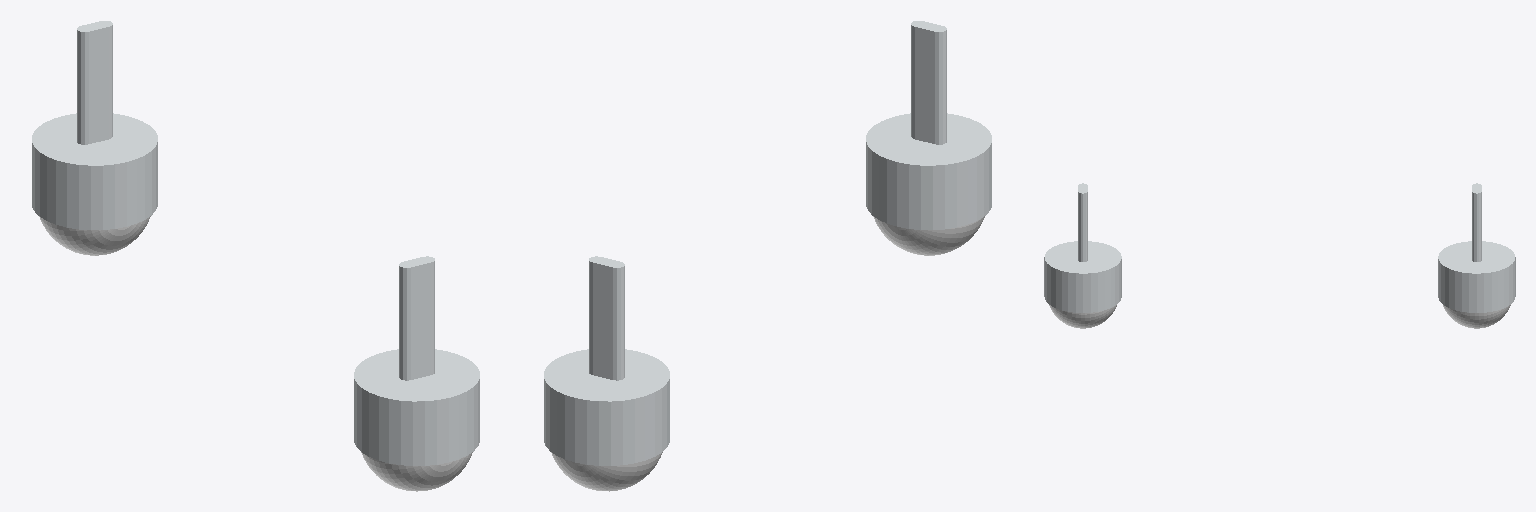
URDF robot description (lide):
<?xml version="1.0" encoding="utf-8"?>
<!-- This URDF was automatically created by SolidWorks to URDF Exporter! Originally created by [author] ([email redacted]) 
     Commit Version: 1.5.1-0-g916b5db  Build Version: 1.5.7152.31018
     For more information, please see http://wiki.ros.org/sw_urdf_exporter -->
<robot
  name="lide">
  <link
    name="base_link">
    <inertial>
      <origin
        xyz="-0.0875241348219497 0.00132743425076964 0.0474630684459225"
        rpy="0 0 0" />
      <mass
        value="3.15295004835025" />
      <inertia
        ixx="0.00732952370902921"
        ixy="-5.47577884715443E-07"
        ixz="-7.3648848496294E-06"
        iyy="0.00563296593577528"
        iyz="-3.00885497223995E-07"
        izz="0.0122350442649522" />
    </inertial>
    <visual>
      <origin
        xyz="0 0 0"
        rpy="0 0 0" />
      <geometry>
        <mesh
          filename="package://lide/meshes/base_link.STL" />
      </geometry>
      <material
        name="">
        <color
          rgba="0.752941176470588 0.752941176470588 0.752941176470588 1" />
      </material>
    </visual>
    <collision>
      <origin
        xyz="0 0 0"
        rpy="0 0 0" />
      <geometry>
        <mesh
          filename="package://lide/meshes/base_link.STL" />
      </geometry>
    </collision>
  </link>
  <link
    name="LFS">
    <inertial>
      <origin
        xyz="0.0455604268709418 0.00830943309140329 0.00297622851896684"
        rpy="0 0 0" />
      <mass
        value="0.0727928435161987" />
      <inertia
        ixx="2.20927876796313E-05"
        ixy="-1.64845302056349E-08"
        ixz="-1.56454773175211E-07"
        iyy="1.62632133784213E-05"
        iyz="2.96411876511635E-09"
        izz="1.80843397531752E-05" />
    </inertial>
    <visual>
      <origin
        xyz="0 0 0"
        rpy="0 0 0" />
      <geometry>
        <mesh
          filename="package://lide/meshes/LFS.STL" />
      </geometry>
      <material
        name="">
        <color
          rgba="0.752941176470588 0.752941176470588 0.752941176470588 1" />
      </material>
    </visual>
    <collision>
      <origin
        xyz="0 0 0"
        rpy="0 0 0" />
      <geometry>
        <mesh
          filename="package://lide/meshes/LFS.STL" />
      </geometry>
    </collision>
  </link>
  <joint
    name="LFS"
    type="fixed">
    <origin
      xyz="-0.0210436140506678 0.117153640036847 -0.036502747985397"
      rpy="1.5707963267949 0 1.5707963267949" />
    <parent
      link="base_link" />
    <child
      link="LFS" />
    <axis
      xyz="0 0 0" />
  </joint>
  <link
    name="LFW">
    <inertial>
      <origin
        xyz="0.015 0 2.60208521396521E-18"
        rpy="0 0 0" />
      <mass
        value="0.767080911081153" />
      <inertia
        ixx="0.00116426102407189"
        ixy="-1.25105048588129E-22"
        ixz="-1.83311841364852E-20"
        iyy="0.000639661580367031"
        iyz="-3.3881317890172E-21"
        izz="0.000639661580367032" />
    </inertial>
    <visual>
      <origin
        xyz="0 0 0"
        rpy="0 0 0" />
      <geometry>
        <mesh
          filename="package://lide/meshes/LFW.STL" />
      </geometry>
      <material
        name="">
        <color
          rgba="0.898039215686275 0.917647058823529 0.929411764705882 1" />
      </material>
    </visual>
    <collision>
      <origin
        xyz="0 0 0"
        rpy="0 0 0" />
      <geometry>
        <mesh
          filename="package://lide/meshes/LFW.STL" />
      </geometry>
    </collision>
  </link>
  <joint
    name="LFW"
    type="continuous">
    <origin
      xyz="0.0633463599631527 -0.00679803845222954 0.0150436140506676"
      rpy="-1.62639053095063 0 0" />
    <parent
      link="LFS" />
    <child
      link="LFW" />
    <axis
      xyz="1 0 0" />
    <limit
      effort="3.1"
      velocity="7" />
  </joint>
  <link
    name="RFS">
    <inertial>
      <origin
        xyz="-0.0191828308457407 -0.00900932874707057 0.0520056318885905"
        rpy="0 0 0" />
      <mass
        value="0.0727928435161986" />
      <inertia
        ixx="2.20927876796313E-05"
        ixy="-1.64845302056318E-08"
        ixz="1.56454773175213E-07"
        iyy="1.62632133784213E-05"
        iyz="-2.96411876510623E-09"
        izz="1.80843397531752E-05" />
    </inertial>
    <visual>
      <origin
        xyz="0 0 0"
        rpy="0 0 0" />
      <geometry>
        <mesh
          filename="package://lide/meshes/RFS.STL" />
      </geometry>
      <material
        name="">
        <color
          rgba="0.752941176470588 0.752941176470588 0.752941176470588 1" />
      </material>
    </visual>
    <collision>
      <origin
        xyz="0 0 0"
        rpy="0 0 0" />
      <geometry>
        <mesh
          filename="package://lide/meshes/RFS.STL" />
      </geometry>
    </collision>
  </link>
  <joint
    name="RFS"
    type="fixed">
    <origin
      xyz="-0.0700730174202914 -0.143531236062048 -0.0192156081309483"
      rpy="1.5707963267949 0 1.5707963267949" />
    <parent
      link="base_link" />
    <child
      link="RFS" />
    <axis
      xyz="0 0 0" />
  </joint>
  <link
    name="RFW">
    <inertial>
      <origin
        xyz="-0.015 1.0842021724855E-19 0"
        rpy="0 0 0" />
      <mass
        value="0.767080911081152" />
      <inertia
        ixx="0.00116426102407189"
        ixy="-5.00173420246734E-37"
        ixz="4.60638074444741E-39"
        iyy="0.000639661580367031"
        iyz="-2.21718708608611E-36"
        izz="0.000639661580367031" />
    </inertial>
    <visual>
      <origin
        xyz="0 0 0"
        rpy="0 0 0" />
      <geometry>
        <mesh
          filename="package://lide/meshes/RFW.STL" />
      </geometry>
      <material
        name="">
        <color
          rgba="0.898039215686275 0.917647058823529 0.929411764705882 1" />
      </material>
    </visual>
    <collision>
      <origin
        xyz="0 0 0"
        rpy="0 0 0" />
      <geometry>
        <mesh
          filename="package://lide/meshes/RFW.STL" />
      </geometry>
    </collision>
  </link>
  <joint
    name="RFW"
    type="continuous">
    <origin
      xyz="-0.0369687639379516 -0.0240836054314246 0.0640730174202912"
      rpy="0 0 0" />
    <parent
      link="RFS" />
    <child
      link="RFW" />
    <axis
      xyz="1 0 0" />
    <limit
      effort="3.1"
      velocity="7" />
  </joint>
  <link
    name="LBS">
    <inertial>
      <origin
        xyz="0 -0.027907712769626 2.77555756156289E-17"
        rpy="0 0 0" />
      <mass
        value="0.154274604919348" />
      <inertia
        ixx="0.000102170595380653"
        ixy="-1.61367477431584E-20"
        ixz="3.3708933537889E-20"
        iyy="9.22222134098982E-05"
        iyz="-1.5590996767477E-20"
        izz="0.000101581618993256" />
    </inertial>
    <visual>
      <origin
        xyz="0 0 0"
        rpy="0 0 0" />
      <geometry>
        <mesh
          filename="package://lide/meshes/LBS.STL" />
      </geometry>
      <material
        name="">
        <color
          rgba="0.898039215686275 0.917647058823529 0.929411764705882 1" />
      </material>
    </visual>
    <collision>
      <origin
        xyz="0 0 0"
        rpy="0 0 0" />
      <geometry>
        <mesh
          filename="package://lide/meshes/LBS.STL" />
      </geometry>
    </collision>
  </link>
  <joint
    name="LBS"
    type="fixed">
    <origin
      xyz="-0.169 0.162750000000001 -0.0125623205686225"
      rpy="1.5707963267949 0 1.5707963267949" />
    <parent
      link="base_link" />
    <child
      link="LBS" />
    <axis
      xyz="0 0 0" />
  </joint>
  <link
    name="LBW">
    <inertial>
      <origin
        xyz="-0.00179999999999999 -5.55111512312578E-17 -2.77555756156289E-17"
        rpy="0 0 0" />
      <mass
        value="0.113633226216432" />
      <inertia
        ixx="4.10102313415104E-05"
        ixy="-1.6249537493551E-56"
        ixz="1.0696423136587E-40"
        iyy="4.15215808594844E-05"
        iyz="2.92725644003597E-40"
        izz="4.10102313415104E-05" />
    </inertial>
    <visual>
      <origin
        xyz="0 0 0"
        rpy="0 0 0" />
      <geometry>
        <mesh
          filename="package://lide/meshes/LBW.STL" />
      </geometry>
      <material
        name="">
        <color
          rgba="1 1 1 1" />
      </material>
    </visual>
    <collision>
      <origin
        xyz="0 0 0"
        rpy="0 0 0" />
      <geometry>
        <mesh
          filename="package://lide/meshes/LBW.STL" />
      </geometry>
    </collision>
  </link>
  <joint
    name="LBW"
    type="fixed">
    <origin
      xyz="0 -0.0539376794313772 0"
      rpy="3.14159265358979 0 1.5707963267949" />
    <parent
      link="LBS" />
    <child
      link="LBW" />
    <axis
      xyz="0 0 0" />
    <limit
      lower="0"
      upper="0"
      effort="0"
      velocity="0" />
  </joint>
  <link
    name="RBS">
    <inertial>
      <origin
        xyz="1.38777878078145E-17 -0.027907712769626 2.77555756156289E-17"
        rpy="0 0 0" />
      <mass
        value="0.154274604919348" />
      <inertia
        ixx="0.000102170595380653"
        ixy="2.94065990805127E-20"
        ixz="1.51976637503567E-20"
        iyy="9.22222134098983E-05"
        iyz="-1.55548647157759E-20"
        izz="0.000101581618993256" />
    </inertial>
    <visual>
      <origin
        xyz="0 0 0"
        rpy="0 0 0" />
      <geometry>
        <mesh
          filename="package://lide/meshes/RBS.STL" />
      </geometry>
      <material
        name="">
        <color
          rgba="0.898039215686275 0.917647058823529 0.929411764705882 1" />
      </material>
    </visual>
    <collision>
      <origin
        xyz="0 0 0"
        rpy="0 0 0" />
      <geometry>
        <mesh
          filename="package://lide/meshes/RBS.STL" />
      </geometry>
    </collision>
  </link>
  <joint
    name="RBS"
    type="fixed">
    <origin
      xyz="-0.169 -0.162749999999999 -0.0125623205686228"
      rpy="1.5707963267949 0 1.5707963267949" />
    <parent
      link="base_link" />
    <child
      link="RBS" />
    <axis
      xyz="0 0 0" />
  </joint>
  <link
    name="RBW">
    <inertial>
      <origin
        xyz="0.0018 6.93889390390723E-18 -8.32667268468867E-17"
        rpy="0 0 0" />
      <mass
        value="0.113633226216432" />
      <inertia
        ixx="4.10102313415105E-05"
        ixy="0"
        ixz="9.99628968591676E-41"
        iyy="4.15215808594844E-05"
        iyz="-2.92725644003597E-40"
        izz="4.10102313415105E-05" />
    </inertial>
    <visual>
      <origin
        xyz="0 0 0"
        rpy="0 0 0" />
      <geometry>
        <mesh
          filename="package://lide/meshes/RBW.STL" />
      </geometry>
      <material
        name="">
        <color
          rgba="1 1 1 1" />
      </material>
    </visual>
    <collision>
      <origin
        xyz="0 0 0"
        rpy="0 0 0" />
      <geometry>
        <mesh
          filename="package://lide/meshes/RBW.STL" />
      </geometry>
    </collision>
  </link>
  <joint
    name="RBW"
    type="fixed">
    <origin
      xyz="0 -0.0539376794313772 0"
      rpy="0 0 -1.5707963267949" />
    <parent
      link="RBS" />
    <child
      link="RBW" />
    <axis
      xyz="0 0 0" />
    <limit
      lower="0"
      upper="0"
      effort="0"
      velocity="0" />
  </joint>
  <link
    name="fcam">
    <inertial>
      <origin
        xyz="-0.0115544746517359 -2.64429642851671E-06 0.00129029302682182"
        rpy="0 0 0" />
      <mass
        value="0.0436119957238951" />
      <inertia
        ixx="2.35707061906176E-05"
        ixy="-1.01842273867601E-09"
        ixz="2.17585832536704E-08"
        iyy="4.29479050056029E-06"
        iyz="-8.85018118703421E-10"
        izz="2.21058153511885E-05" />
    </inertial>
    <visual>
      <origin
        xyz="0 0 0"
        rpy="0 0 0" />
      <geometry>
        <mesh
          filename="package://lide/meshes/fcam.STL" />
      </geometry>
      <material
        name="">
        <color
          rgba="0.792156862745098 0.819607843137255 0.933333333333333 1" />
      </material>
    </visual>
    <collision>
      <origin
        xyz="0 0 0"
        rpy="0 0 0" />
      <geometry>
        <mesh
          filename="package://lide/meshes/fcam.STL" />
      </geometry>
    </collision>
  </link>
  <joint
    name="fcam"
    type="fixed">
    <origin
      xyz="0.0291177143234621 0 0.129817093613409"
      rpy="0 0.261799387799143 0" />
    <parent
      link="base_link" />
    <child
      link="fcam" />
    <axis
      xyz="0 0 0" />
  </joint>
  <link
    name="bcam">
    <inertial>
      <origin
        xyz="-0.0201034645299101 -2.64354903260766E-06 -0.007258695056636"
        rpy="0 0 0" />
      <mass
        value="0.0436119949785284" />
      <inertia
        ixx="2.357070560996E-05"
        ixy="-1.01834758005784E-09"
        ixz="2.17579332532706E-08"
        iyy="4.29479078276664E-06"
        iyz="-8.85484503941969E-10"
        izz="2.21058144654637E-05" />
    </inertial>
    <visual>
      <origin
        xyz="0 0 0"
        rpy="0 0 0" />
      <geometry>
        <mesh
          filename="package://lide/meshes/bcam.STL" />
      </geometry>
      <material
        name="">
        <color
          rgba="0.792156862745098 0.819607843137255 0.933333333333333 1" />
      </material>
    </visual>
    <collision>
      <origin
        xyz="0 0 0"
        rpy="0 0 0" />
      <geometry>
        <mesh
          filename="package://lide/meshes/bcam.STL" />
      </geometry>
    </collision>
  </link>
  <joint
    name="bcam"
    type="fixed">
    <origin
      xyz="0.0329999999999987 0 0.0912322330470338"
      rpy="0 0.785398163397446 0" />
    <parent
      link="base_link" />
    <child
      link="bcam" />
    <axis
      xyz="0 0 0" />
  </joint>
  <link
    name="Lidar">
    <inertial>
      <origin
        xyz="0.0135233595898181 0.000461955965224983 -0.0287648854972775"
        rpy="0 0 0" />
      <mass
        value="0.0730845717093785" />
      <inertia
        ixx="1.95808757100143E-05"
        ixy="-1.03933583224414E-07"
        ixz="-4.2839116880442E-07"
        iyy="2.4125007965289E-05"
        iyz="9.427103854471E-09"
        izz="4.14184516027963E-05" />
    </inertial>
    <visual>
      <origin
        xyz="0 0 0"
        rpy="0 0 0" />
      <geometry>
        <mesh
          filename="package://lide/meshes/Lidar.STL" />
      </geometry>
      <material
        name="">
        <color
          rgba="0.792156862745098 0.819607843137255 0.933333333333333 1" />
      </material>
    </visual>
    <collision>
      <origin
        xyz="0 0 0"
        rpy="0 0 0" />
      <geometry>
        <mesh
          filename="package://lide/meshes/Lidar.STL" />
      </geometry>
    </collision>
  </link>
  <joint
    name="Lidar"
    type="fixed">
    <origin
      xyz="-0.171576367600142 -0.000994047553699723 0.206499999999996"
      rpy="0 0 0" />
    <parent
      link="base_link" />
    <child
      link="Lidar" />
    <axis
      xyz="0 0 0" />
  </joint>
  <link
    name="imu_link">
    <inertial>
      <origin
        xyz="0.0029108463494605 6.23984008059353E-05 -0.00103377575234337"
        rpy="0 0 0" />
      <mass
        value="0.00189180567975737" />
      <inertia
        ixx="7.79431263454134E-08"
        ixy="1.3921419055649E-10"
        ixz="1.54511633252894E-11"
        iyy="4.85473464623124E-08"
        iyz="-6.30099051334842E-11"
        izz="1.25233585370532E-07" />
    </inertial>
    <visual>
      <origin
        xyz="0 0 0"
        rpy="0 0 0" />
      <geometry>
        <mesh
          filename="package://lide/meshes/imu_link.STL" />
      </geometry>
      <material
        name="">
        <color
          rgba="0.898039215686275 0.917647058823529 0.929411764705882 1" />
      </material>
    </visual>
    <collision>
      <origin
        xyz="0 0 0"
        rpy="0 0 0" />
      <geometry>
        <mesh
          filename="package://lide/meshes/imu_link.STL" />
      </geometry>
    </collision>
  </link>
  <joint
    name="imu_link"
    type="fixed">
    <origin
      xyz="-0.00762500000000023 0 0.155"
      rpy="0 0 0" />
    <parent
      link="base_link" />
    <child
      link="imu_link" />
    <axis
      xyz="0 0 0" />
  </joint>
</robot>

--- Render facts (derived) ---
The picture shows the robot from 3 angles, left to right: view 1: azimuth 30°, elevation 25°; view 2: azimuth 150°, elevation 25°; view 3: azimuth 270°, elevation 25°; orthographic projection.
Robot: lide — 13 links, 12 joints (2 continuous, 10 fixed); root link base_link; default pose: all joints at 0.
Visible links, largest first — view 1: LBS, RBS, LBW, RBW; view 2: LBS, RBS, RBW, LBW; view 3: LBS, RBS, RBW, LBW.
Boxes of the visible links, x1,y1,x2,y2 form: LBS: (32, 21, 157, 229); RBS: (354, 256, 479, 465); LBW: (39, 216, 150, 255); RBW: (361, 452, 472, 491); LBS: (544, 256, 669, 465); RBS: (866, 21, 991, 229); RBW: (873, 216, 984, 255); LBW: (551, 452, 662, 491); LBS: (1438, 183, 1515, 312); RBS: (1044, 183, 1121, 312); RBW: (1049, 305, 1116, 328); LBW: (1443, 305, 1510, 328).
Bounding box of the posed robot: 0.064 × 0.3895 × 0.1247 m (x, y, z).
Meshes: 13 distinct files referenced, 4 mesh visuals loaded (4 binary STL); not drawn: 9 (reference not matched to a file when rendering).